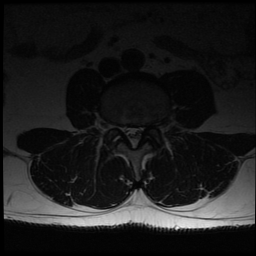CCS_normal: (130, 118, 137, 155)
LFS_severe_stenosis: (145, 117, 153, 138)
LLS_normal: (138, 118, 145, 145)
RFS_severe_stenosis: (114, 116, 122, 138)
RLS_normal: (122, 119, 130, 144)
